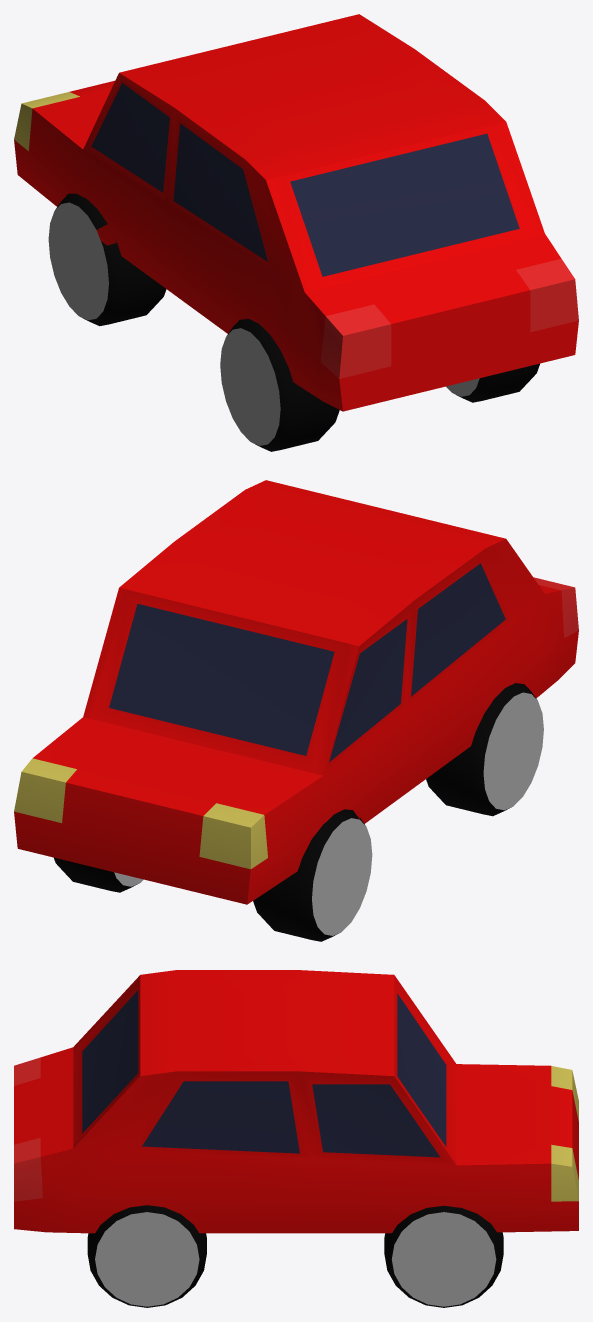
Rendered from Car_Red.fbx.
3 views of the same model, one above another, from view 1: azimuth 30°, elevation 25°; view 2: azimuth 150°, elevation 25°; view 3: azimuth 270°, elevation 25° (orthographic). The views are drawn at different scales.
Visible parts, largest first — view 1: pCube1, pCylinder4, pCylinder3, pCylinder1; view 2: pCube1, pCylinder3, pCylinder4, pCylinder2; view 3: pCube1, pCylinder1, pCylinder2.
Part boxes in pixels (box(x1,y1,x2,y2)): pCube1: box(14, 14, 578, 411); pCylinder4: box(220, 319, 339, 451); pCylinder3: box(48, 193, 166, 326); pCylinder1: box(446, 363, 539, 402); pCube1: box(14, 480, 578, 904); pCylinder3: box(253, 809, 372, 941); pCylinder4: box(426, 683, 543, 816); pCylinder2: box(54, 857, 143, 892); pCube1: box(14, 970, 578, 1233); pCylinder1: box(87, 1205, 206, 1307); pCylinder2: box(384, 1206, 503, 1307).
Size of the model in its own units: 3.11 by 3.12 by 6.72.
